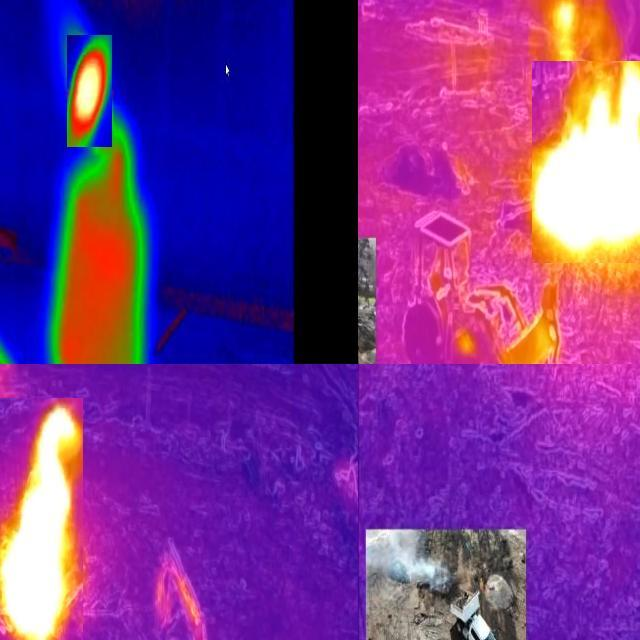fire: (532, 61, 640, 263), (1, 398, 83, 640), (67, 35, 112, 147)
